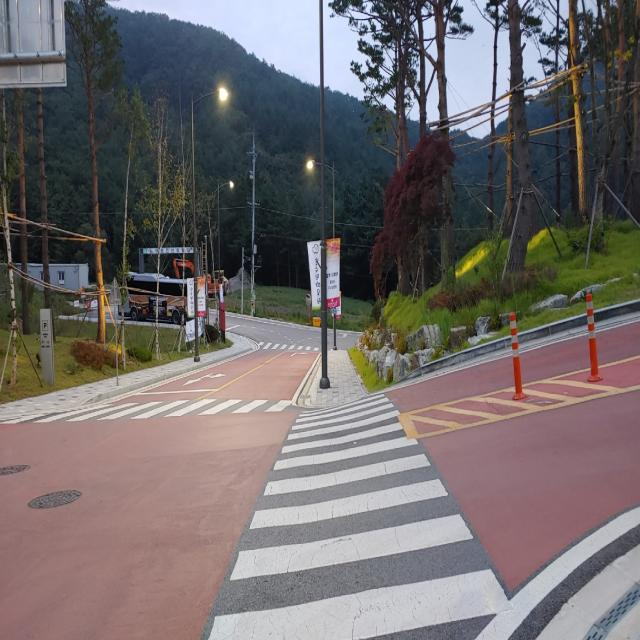횡단보도: (208, 391, 516, 640), (69, 399, 290, 409)
